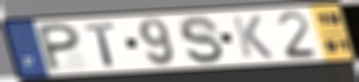2: (275, 10, 319, 60)
9: (139, 17, 179, 67)
K: (229, 14, 275, 59)
P: (37, 22, 82, 74)
S: (176, 14, 226, 65)
T: (82, 21, 119, 68)
